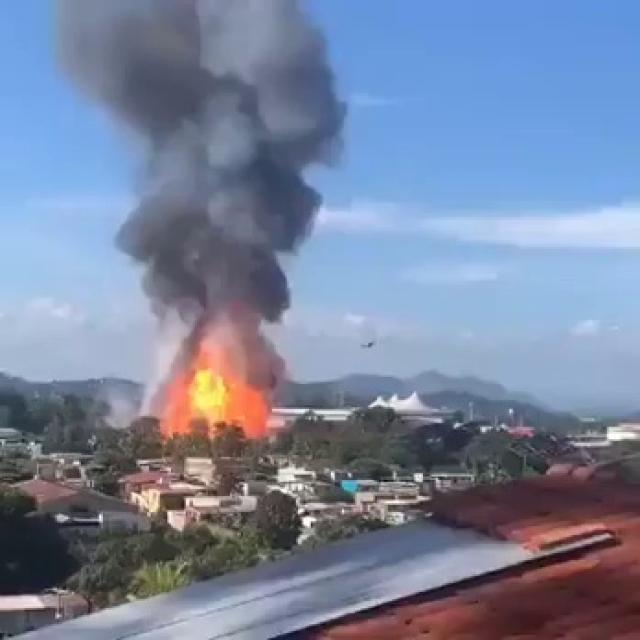Fire: (170, 358, 238, 441)
Smoke: (61, 0, 392, 382)
